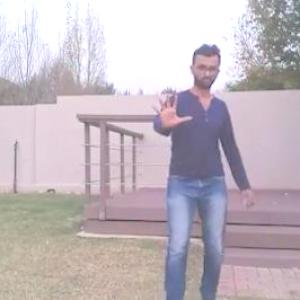follow_hand: (142, 82, 197, 131)
